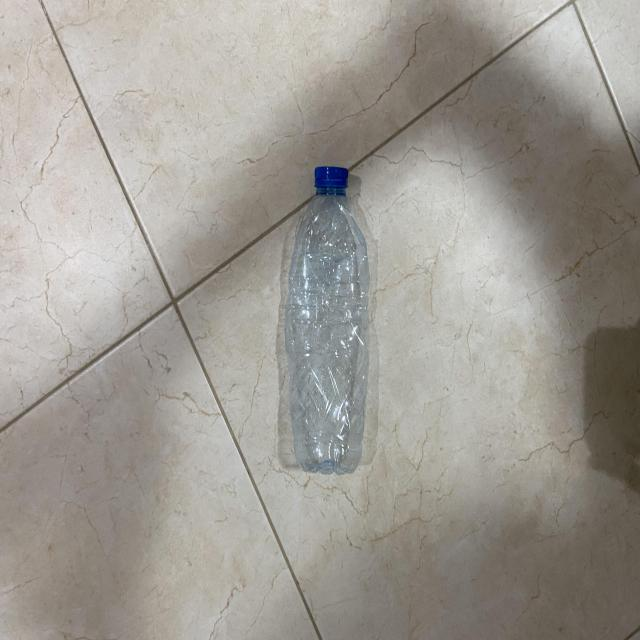plastic: (281, 158, 371, 479)
